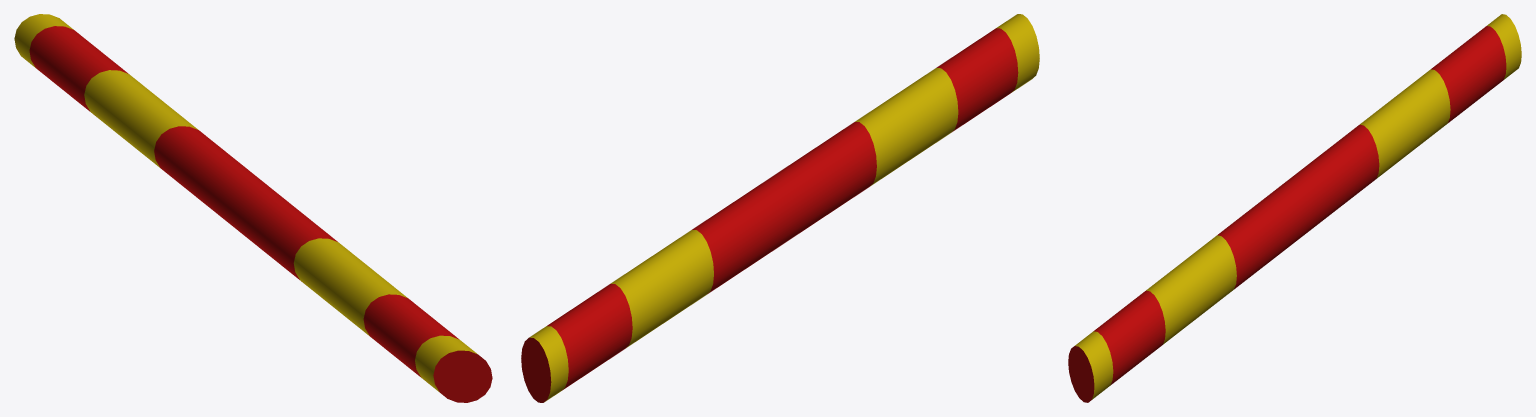
File: OneFire.FBX
3 renders of one model, left to right at view 1: azimuth 30°, elevation 25°; view 2: azimuth 150°, elevation 25°; view 3: azimuth 330°, elevation 25°, orthographic. The views are drawn at different scales.
Visible parts, largest first — view 1: fire1; view 2: fire1; view 3: fire1.
Part boxes in pixels (box(x1,y1,x2,y2)): fire1: box(14, 14, 492, 402); fire1: box(521, 14, 1039, 402); fire1: box(1068, 14, 1521, 402).
Bounding box in the file's own units: 4.27 × 6.54 × 67.56.
